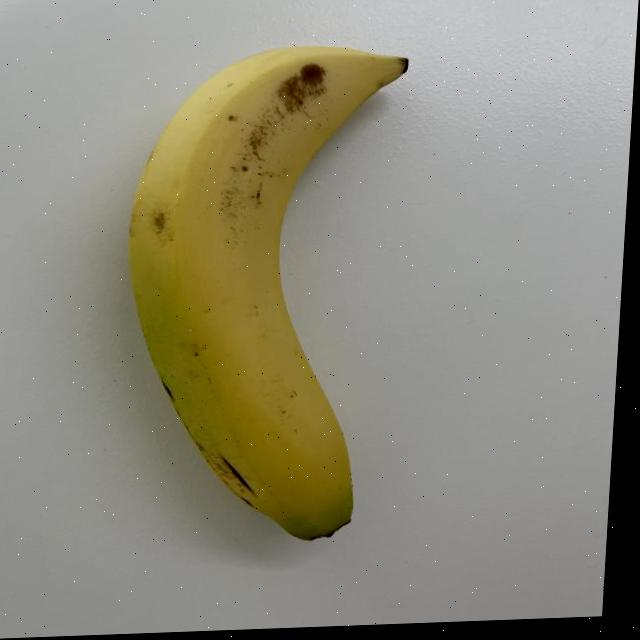banana: (100, 33, 427, 562)
